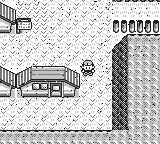leer: (16, 18, 31, 33)
main: (81, 60, 95, 76)
no-caminable: (1, 33, 160, 143), (1, 67, 79, 96), (113, 19, 160, 33), (1, 2, 15, 32), (113, 0, 160, 2)
puerta: (50, 84, 62, 97)
